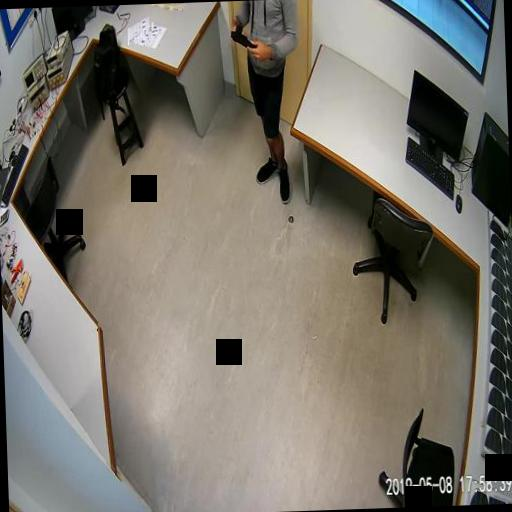Handgun: (228, 20, 257, 49)
